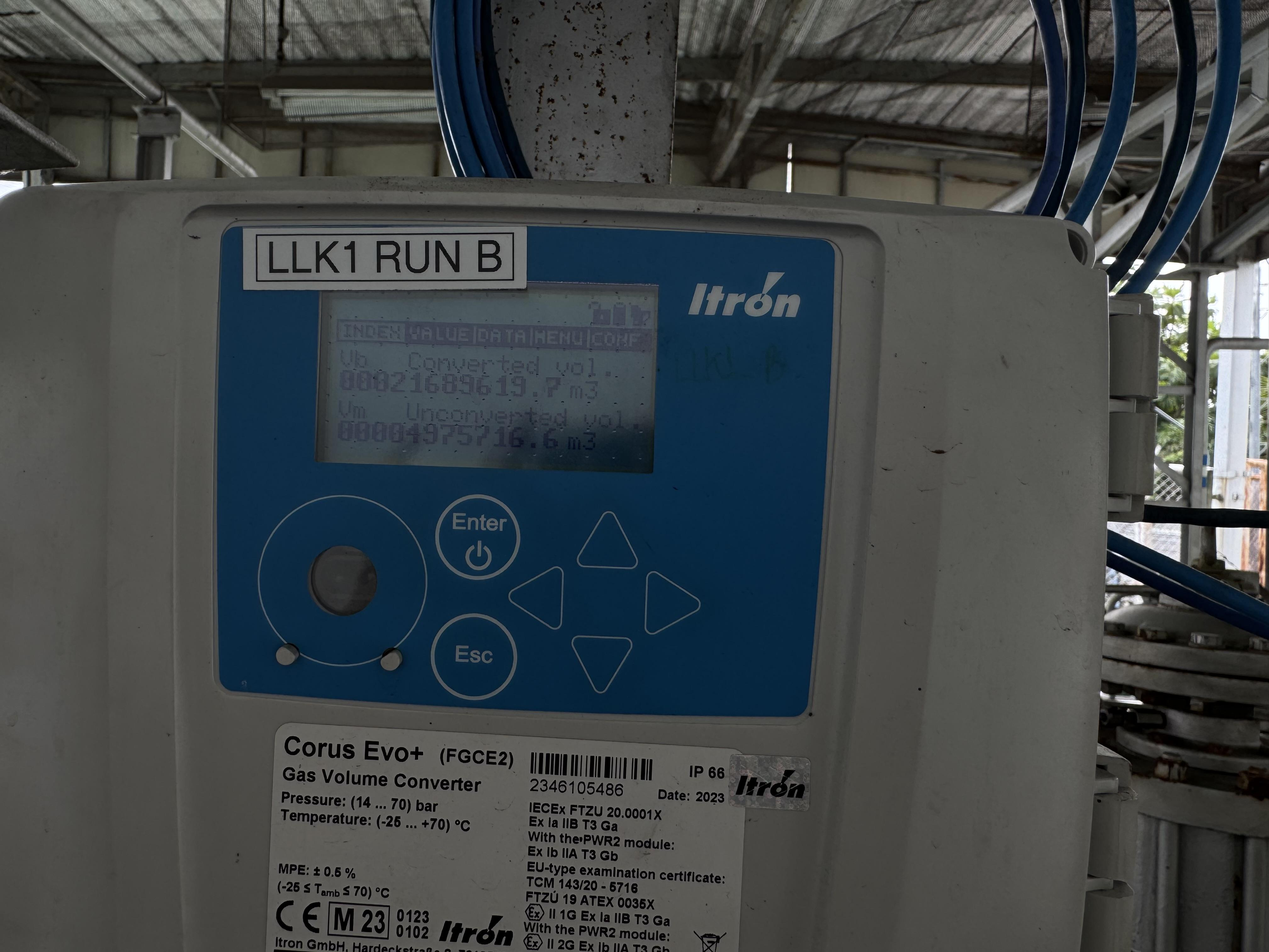digital_screen: (314, 274, 660, 473)
